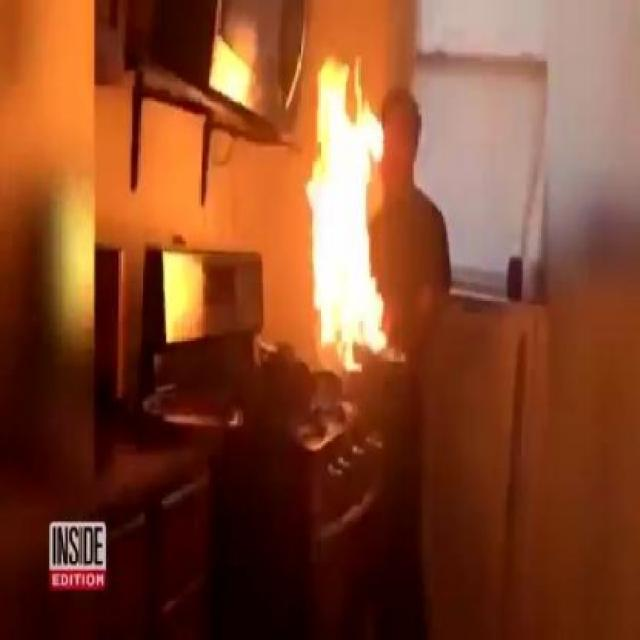fire: (302, 51, 386, 367)
